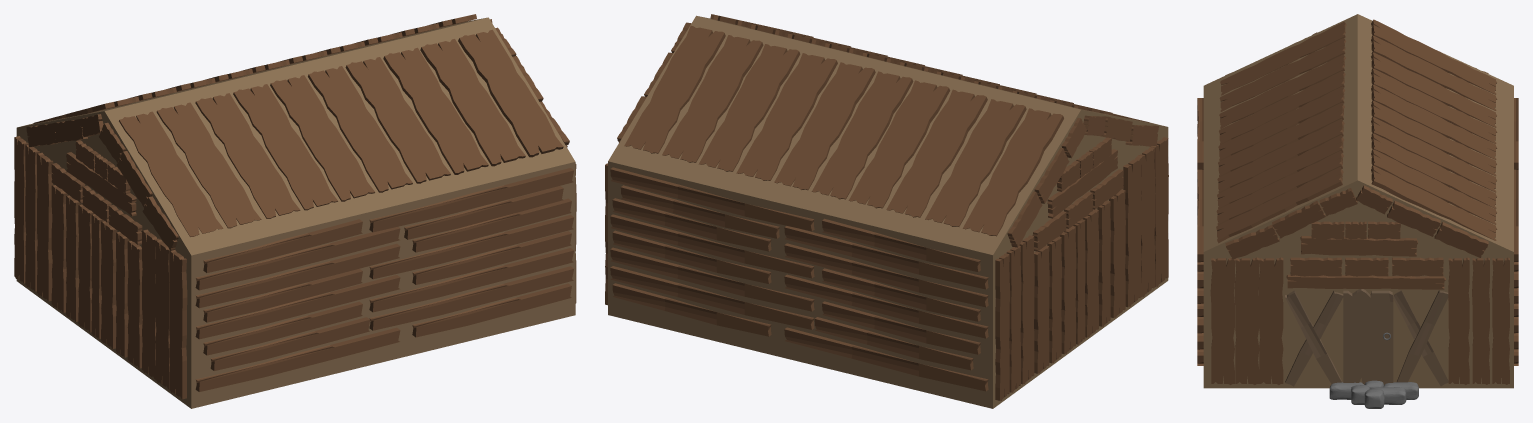
File: house2.fbx
The picture shows the model from 3 angles, left to right: view 1: azimuth 30°, elevation 25°; view 2: azimuth 150°, elevation 25°; view 3: azimuth 270°, elevation 25°; orthographic projection. The views are drawn at different scales.
Visible parts, largest first — view 1: Cube, Cube.096, Cube.097, Cube.098, Cube.099, Cube.100, Cube.101, Cube.102, Cube.103, Cube.104, Cube.105, Cube.076 (+38 smaller); view 2: Cube, Cube.088, Cube.091, Cube.086, Cube.093, Cube.094, Cube.095, Cube.090, Cube.092, Cube.087, Cube.089, Cube.060 (+37 smaller); view 3: Cube, Cube.003, Cube.022, Cube.007, Cube.004, Cube.006, Cube.096, Cube.086, Cube.005, Cube.023, Cube.094, Cube.008 (+43 smaller).
Boxes of the visible parts, x1,y1,x2,y2 form: Cube: (16,17,575,408); Cube.096: (458,29,563,157); Cube.097: (420,39,525,166); Cube.098: (383,47,488,174); Cube.099: (345,57,450,183); Cube.100: (308,66,412,192); Cube.101: (270,75,374,201); Cube.102: (233,84,337,210); Cube.103: (195,93,300,218); Cube.104: (156,102,261,228); Cube.105: (119,111,223,236); Cube.076: (195,243,400,308); Cube: (608,15,1168,408); Cube.088: (699,44,800,171); Cube.091: (811,71,913,199); Cube.086: (624,25,725,153); Cube.093: (886,89,987,217); Cube.094: (925,99,1026,226); Cube.095: (962,108,1063,236); Cube.090: (774,62,875,190); Cube.092: (848,80,950,208); Cube.087: (662,35,763,162); Cube.089: (736,53,837,180); Cube.060: (784,243,988,307); Cube: (1203,14,1513,388); Cube.003: (1343,289,1393,384); Cube.022: (1258,257,1283,384); Cube.007: (1234,257,1259,384); Cube.004: (1210,258,1234,384); Cube.006: (1448,257,1469,384); Cube.096: (1216,167,1343,243); Cube.086: (1371,165,1496,240); Cube.005: (1472,257,1489,384); Cube.023: (1492,257,1509,384); Cube.094: (1371,35,1496,110); Cube.008: (1286,274,1445,289).
Size of the model in its own units: 4352 by 2342 by 3185.
